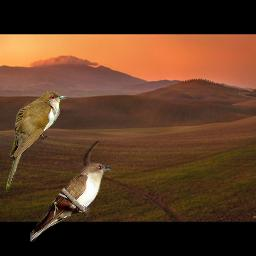Cuckoo: (30, 162, 113, 242), (6, 90, 67, 192)
